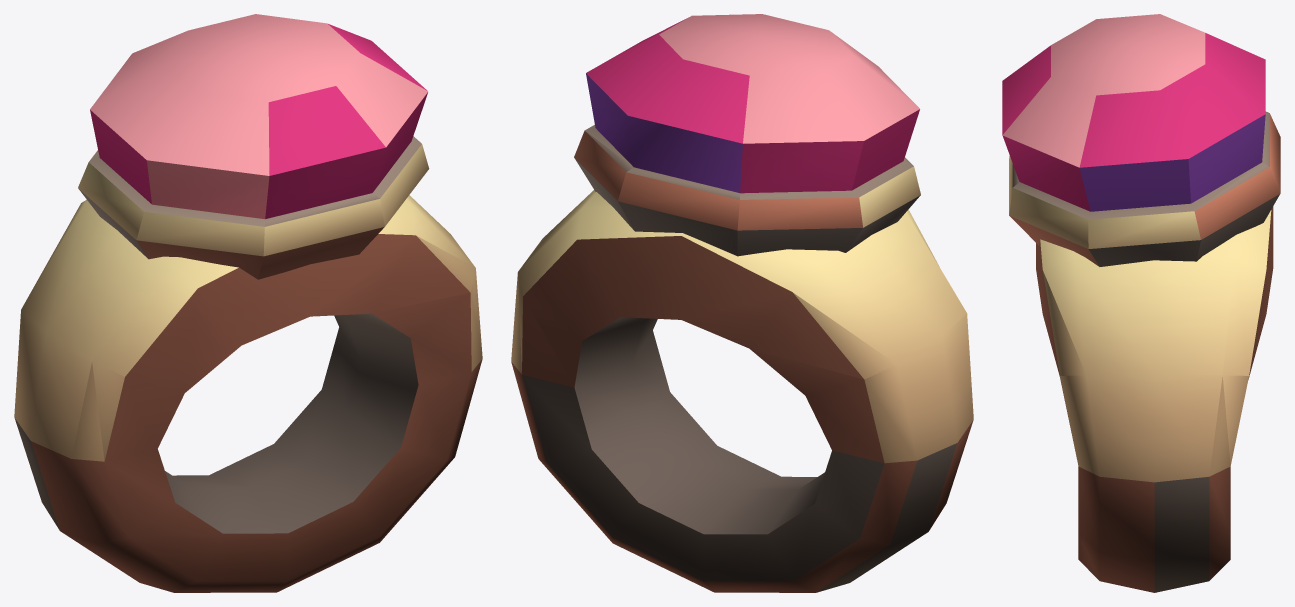
The model's file is ring_wood_garnet.glb.
3 renders of one model, left to right at view 1: azimuth 30°, elevation 25°; view 2: azimuth 150°, elevation 25°; view 3: azimuth 270°, elevation 25°, orthographic. The views are drawn at different scales.
Parts seen in each view (by area): view 1: Item; view 2: Item; view 3: Item.
Boxes of the visible parts, box(x1,y1,x2,y2) form: Item: box(14, 14, 482, 592); Item: box(511, 14, 973, 592); Item: box(1002, 14, 1280, 592).
Bounding box in the file's own units: 0.52 × 0.62 × 0.3.
2 materials, 2 textured.
